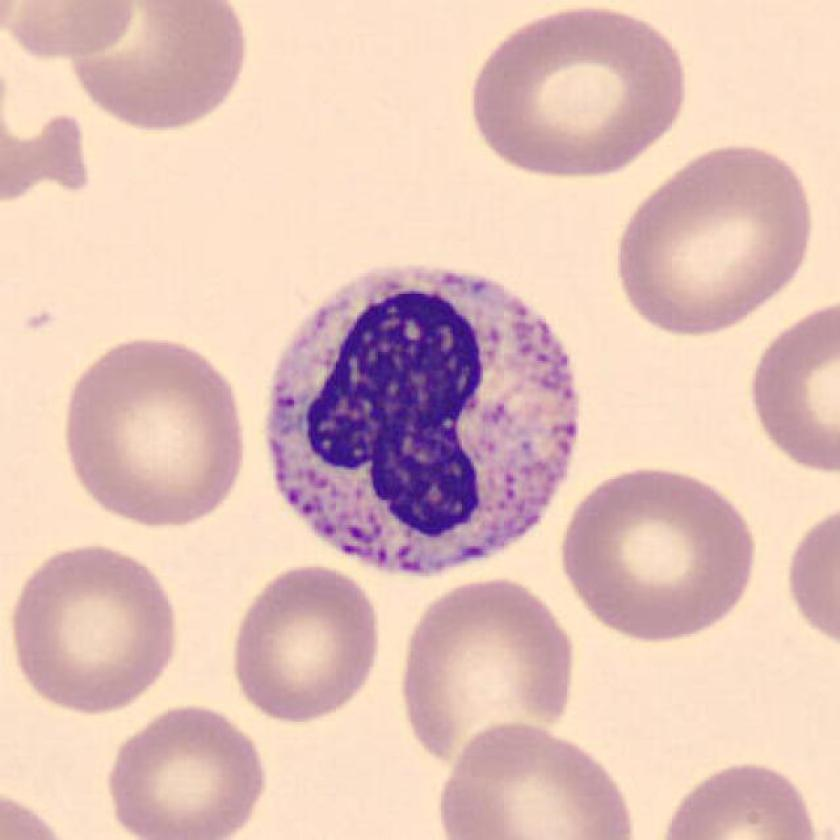neutrophil: (264, 268, 579, 575)
